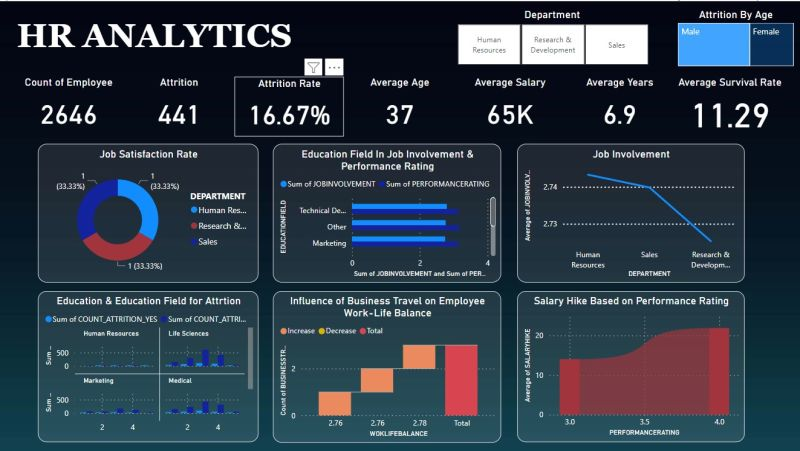

This screenshot's page, from the dashboard's own definition file:
{"tool":"powerbi","page":{"name":"Page 1","canvas":[1280,720],"ordinal":0},"visuals":[{"type":"card","title":"Count of Employee","fields":{"Values":["CountNonNull(general_data.EmployeeID)"]},"box":[23.3,119.4,175.6,94.7],"z":0},{"type":"card","title":"Attrition","fields":{"Values":["Sum(general_data.AttritionCount)"]},"box":[199,119.4,175.6,94.7],"z":1000},{"type":"card","title":"Attrition Rate","fields":{"Values":["general_data.Measure"]},"box":[374.6,120.8,175.6,94.7],"z":2000},{"type":"card","title":"Average Age","fields":{"Values":["Avg(general_data.Age)"]},"box":[551.6,119.4,175.6,94.7],"z":3000},{"type":"card","title":"Average Salary","fields":{"Values":["Avg(general_data.MonthlyIncome)"]},"box":[727.3,119.4,175.6,94.7],"z":4000},{"type":"card","title":"Average Years","fields":{"Values":["Avg(general_data.YearsAtCompany)"]},"box":[902.9,119.4,175.6,94.7],"z":5000},{"type":"donutChart","title":"Job Satisfaction Rate","fields":{"Category":["PS12.DEPARTMENT"],"Y":["CountNonNull(PS12.JOBSATISFACTION)"]},"box":[61.5,228,352.3,222],"z":6000},{"type":"lineChart","title":"Job Involvement","fields":{"Category":["PS22.DEPARTMENT"],"Y":["Avg(PS22.JOBINVOLVEMENT)"]},"box":[826.4,228,363.1,222],"z":7000},{"type":"clusteredBarChart","title":"Education Field In Job Involvement & Performance Rating","fields":{"Category":["PS32.EDUCATIONFIELD"],"Y":["Sum(PS32.JOBINVOLVEMENT)","Sum(PS32.PERFORMANCERATING)"]},"box":[436.7,228,364.3,222],"z":8000},{"type":"card","title":"Average Survival Rate","fields":{"Values":["Sum(PS42.AVERAGE_SURVIVAL_RATE)"]},"box":[1078.6,119.4,175.6,94.7],"z":9000},{"type":"clusteredColumnChart","title":"Education & Education Field for Attrtion","fields":{"Y":["Sum(PS52.COUNT_ATTRITION_YES)","Sum(PS52.COUNT_ATTRITION_NO)"],"Category":["PS52.EDUCATION"],"Rows":["PS52.EDUCATIONFIELD"]},"box":[61.5,463.3,352.3,241.3],"z":10000},{"type":"waterfallChart","title":"Impact of Business Travel on Employee Work-Life Balance ","fields":{"Category":["PS62.WOKLIFEBALANCE"],"Y":["CountNonNull(PS62.BUSINESSTRAVEL)"]},"box":[436.7,463.3,364.3,242.5],"z":11000},{"type":"ribbonChart","title":"Salary Hike Based on Performance Rating","fields":{"Category":["PS72.PERFORMANCERATING"],"Y":["Avg(PS72.SALARYHIKE)"]},"box":[826.4,463.3,363.1,241.3],"z":12000},{"type":"treemap","title":"Attrition By Age","fields":{"Group":["general_data.Gender"],"Values":["Sum(general_data.AttritionCount)"]},"box":[1078.6,10.9,194.2,97.7],"z":13000},{"type":"slicer","title":"Department","fields":{"Values":["general_data.Department"]},"box":[705.8,10.9,353.5,97.7],"z":14000},{"type":"textbox","box":[22.9,19.3,638.2,89.3],"z":15000}]}

Visuals, with their boxes in screenshot pixels (x1, y1, x2, y2), scaled from the page's 1280x720 canvas onto the 800x451 screenshot:
"Count of Employee" card: locate(15, 75, 124, 134)
"Attrition" card: locate(124, 75, 234, 134)
"Attrition Rate" card: locate(234, 76, 344, 135)
"Average Age" card: locate(345, 75, 454, 134)
"Average Salary" card: locate(455, 75, 564, 134)
"Average Years" card: locate(564, 75, 674, 134)
"Job Satisfaction Rate" donutChart: locate(38, 143, 259, 282)
"Job Involvement" lineChart: locate(516, 143, 743, 282)
"Education Field In Job Involvement & Performance Rating" clusteredBarChart: locate(273, 143, 501, 282)
"Average Survival Rate" card: locate(674, 75, 784, 134)
"Education & Education Field for Attrtion" clusteredColumnChart: locate(38, 290, 259, 441)
"Impact of Business Travel on Employee Work-Life Balance " waterfallChart: locate(273, 290, 501, 442)
"Salary Hike Based on Performance Rating" ribbonChart: locate(516, 290, 743, 441)
"Attrition By Age" treemap: locate(674, 7, 796, 68)
"Department" slicer: locate(441, 7, 662, 68)
textbox: locate(14, 12, 413, 68)
